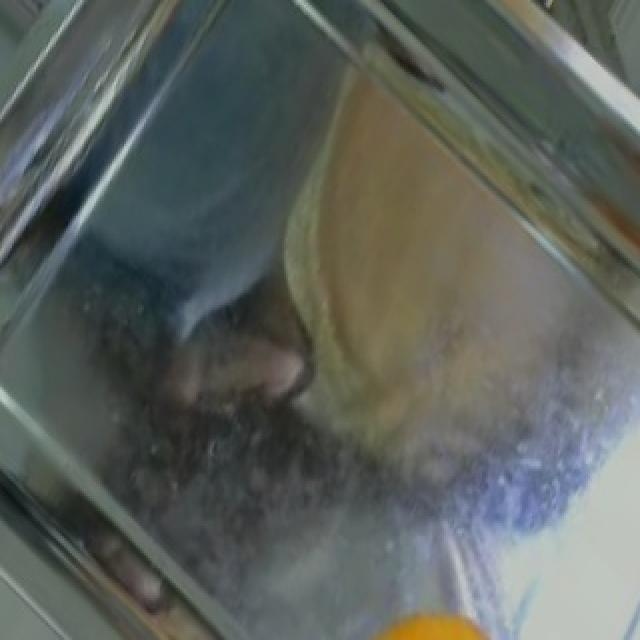Fruit: (340, 595, 538, 640)
